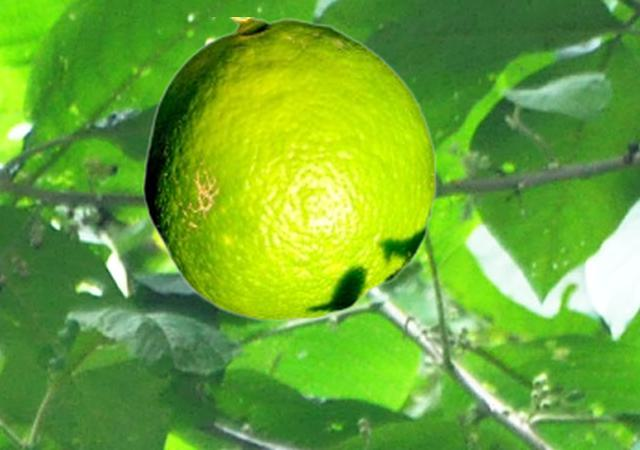dalandan: (142, 17, 436, 321)
